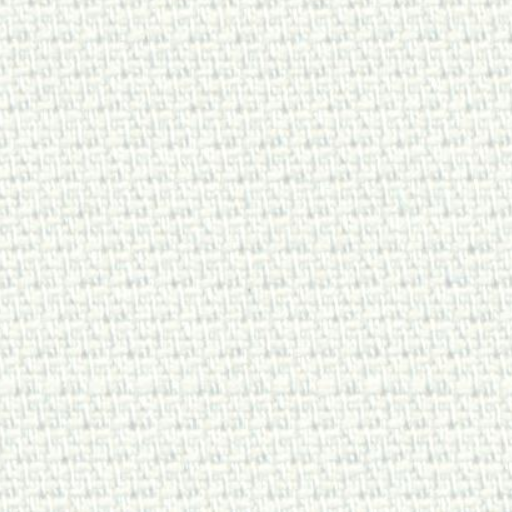TuoSha: (16, 338, 493, 440)
